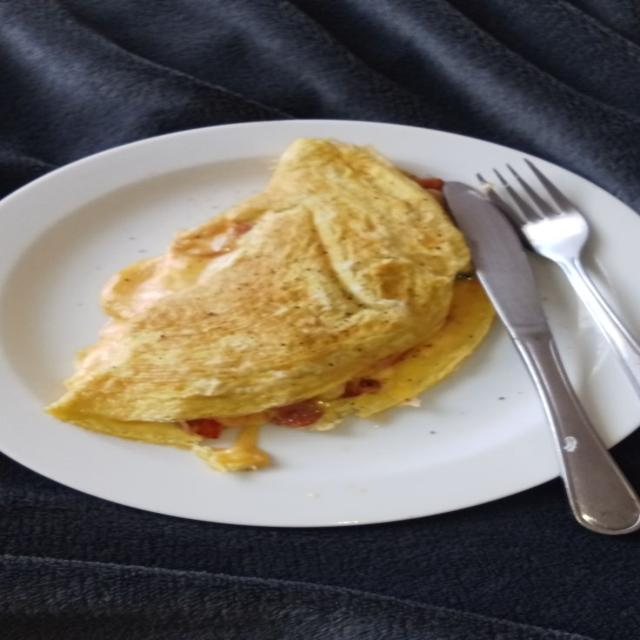omelette: (48, 139, 493, 470)
